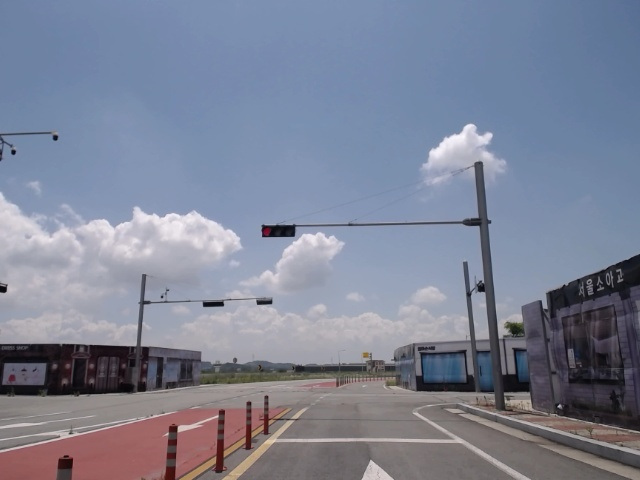red_3: (260, 224, 297, 238)
